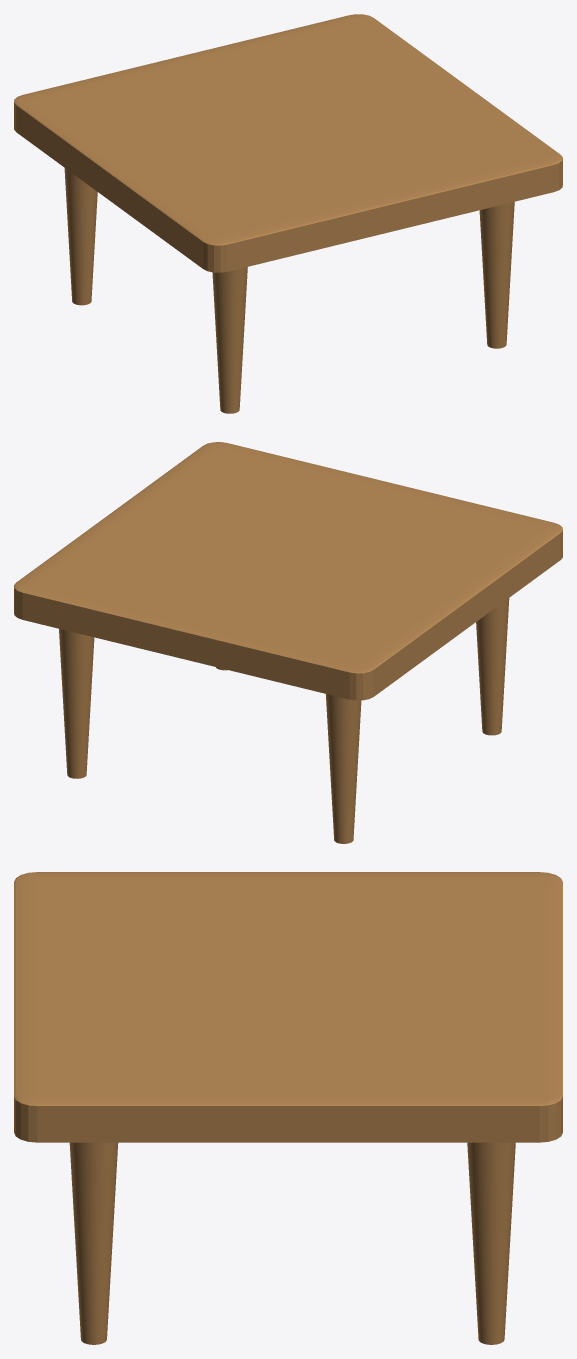
Rendered from Table.fbx.
The picture shows the model from 3 angles, top to bottom: view 1: azimuth 30°, elevation 25°; view 2: azimuth 150°, elevation 25°; view 3: azimuth 270°, elevation 25°; orthographic projection. The views are drawn at different scales.
Visible parts, largest first — view 1: Table; view 2: Table; view 3: Table.
Part boxes in pixels (<box>): Table: <box>14,14,562,413</box>; Table: <box>14,442,562,843</box>; Table: <box>14,872,562,1344</box>.
Size of the model in its own units: 326 by 171 by 324.
